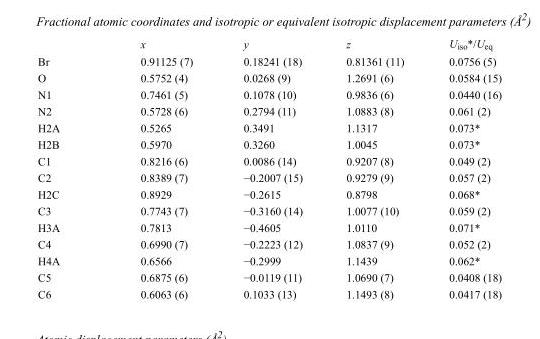table: (37, 36, 501, 299)
table column: (99, 36, 217, 299), (217, 36, 323, 299), (323, 36, 425, 299), (425, 36, 501, 299), (37, 36, 99, 299)
table column header: (37, 36, 501, 52)
table row: (37, 52, 501, 69), (37, 85, 501, 102), (37, 102, 501, 119), (37, 135, 501, 152), (37, 168, 501, 185), (37, 185, 501, 202), (37, 218, 501, 235), (37, 235, 501, 252), (37, 268, 501, 285), (37, 36, 501, 52), (37, 69, 501, 85), (37, 119, 501, 135), (37, 152, 501, 168), (37, 202, 501, 218), (37, 252, 501, 268), (37, 285, 501, 299)
